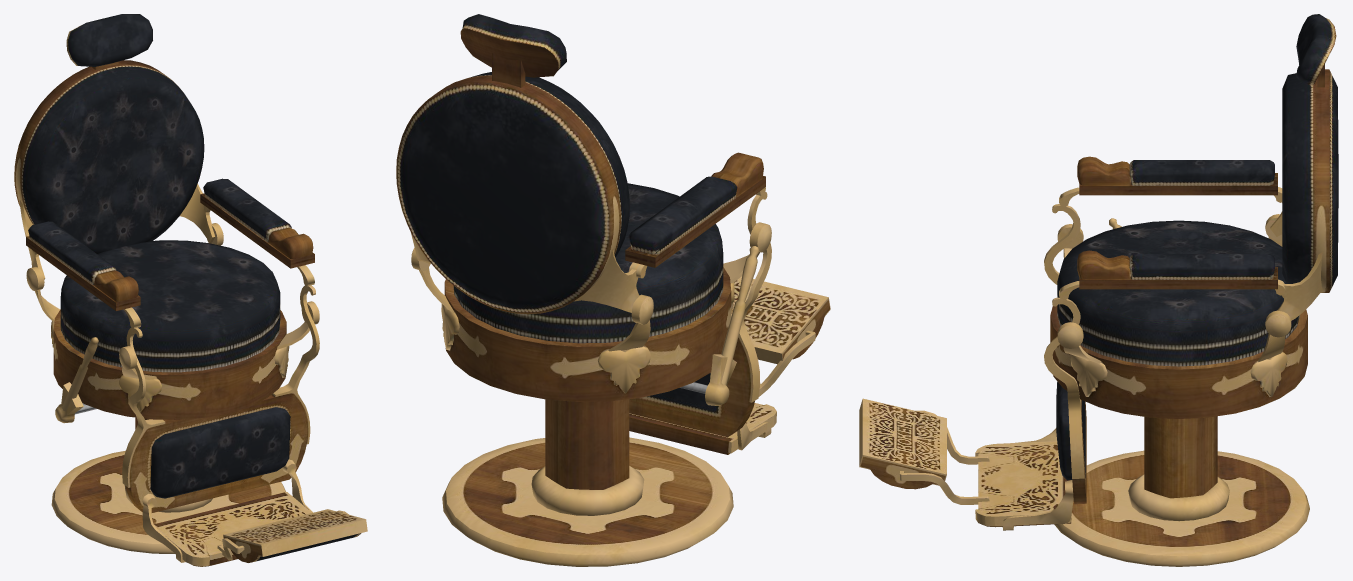
File: BarberShopChair_01.glb
3 renders of one model, left to right at view 1: azimuth 30°, elevation 25°; view 2: azimuth 150°, elevation 25°; view 3: azimuth 270°, elevation 25°, orthographic. The views are drawn at different scales.
Visible parts, largest first — view 1: BarberShopChair_01; view 2: BarberShopChair_01; view 3: BarberShopChair_01.
Boxes of the visible parts, x1,y1,x2,y2 form: BarberShopChair_01: (14,14,367,566); BarberShopChair_01: (396,14,830,566); BarberShopChair_01: (859,14,1338,566).
Bounding box in the file's own units: 0.7566 × 1.49 × 1.33.
1 material, 1 textured.
